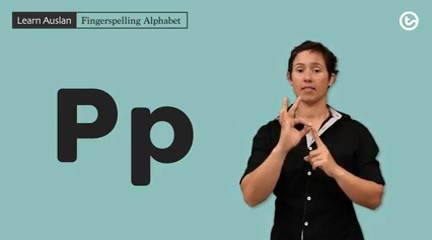P: (273, 91, 339, 179)
